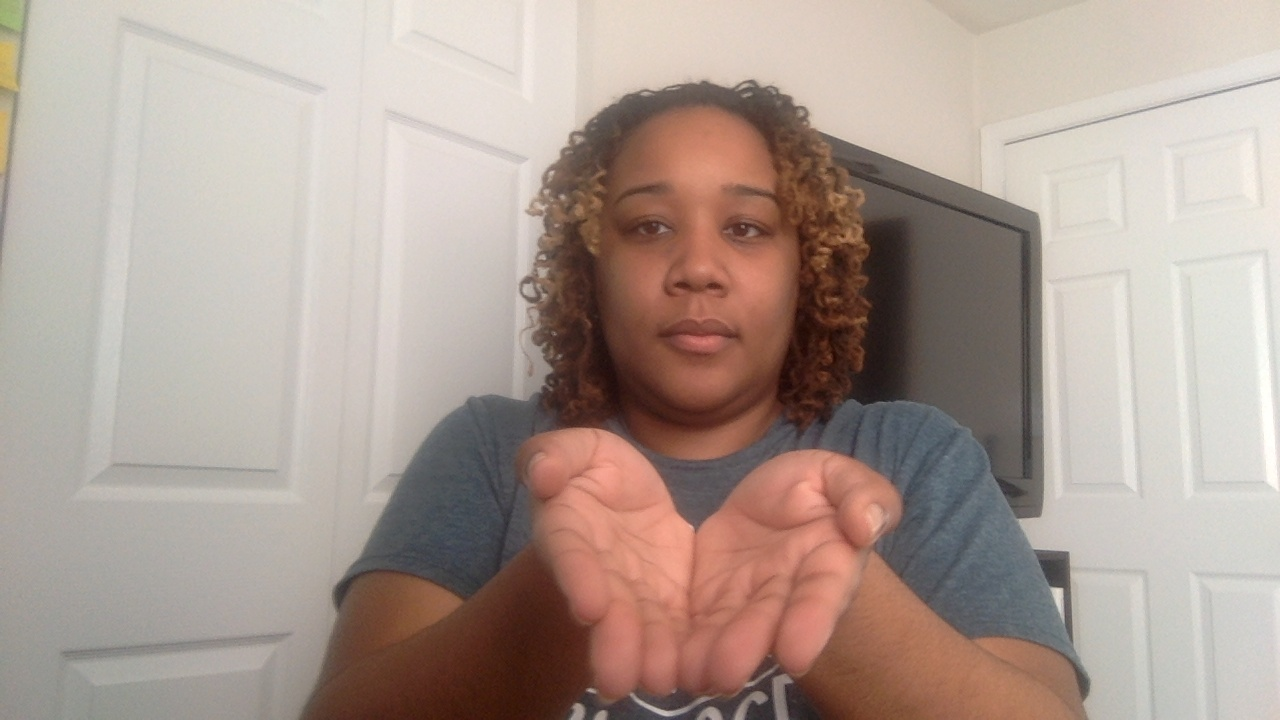book: (510, 427, 919, 703)
